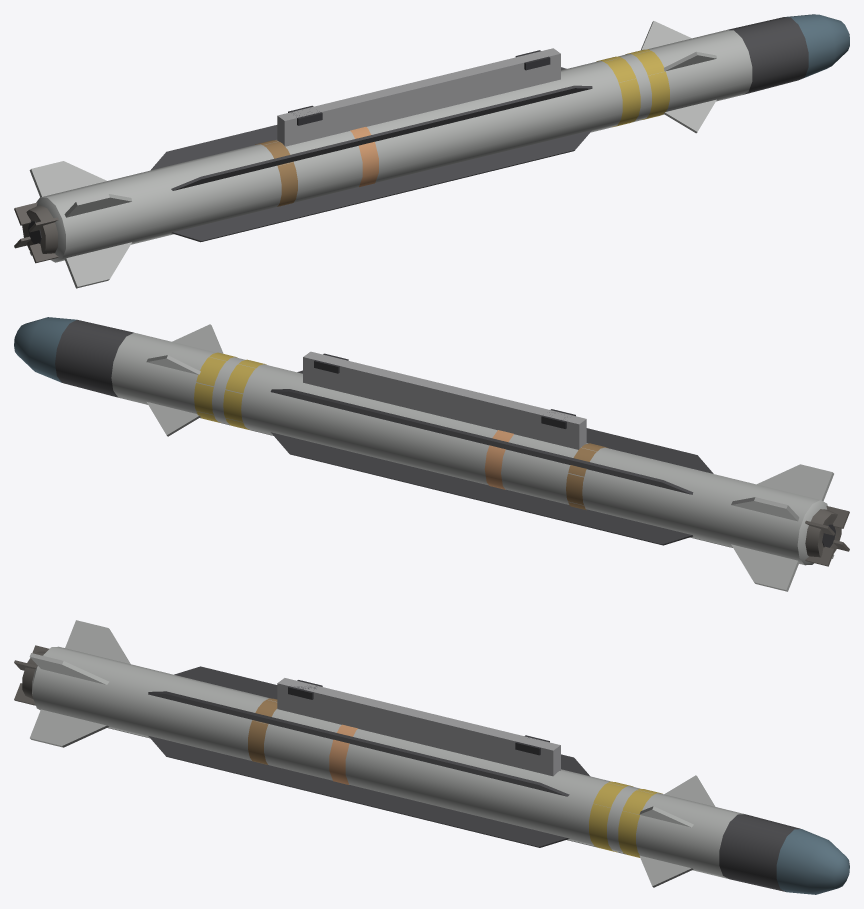
Rendered from srm_3.glb.
3 views of the same model, one above another, from view 1: azimuth 30°, elevation 25°; view 2: azimuth 150°, elevation 25°; view 3: azimuth 330°, elevation 25° (orthographic).
Visible parts, largest first — view 1: srm_3; view 2: srm_3; view 3: srm_3.
Boxes of the visible parts, bbox=[...] form: srm_3: bbox=[14, 14, 849, 288]; srm_3: bbox=[14, 317, 849, 591]; srm_3: bbox=[14, 620, 849, 894].
Bounding box in the file's own units: 1.01 × 0.1157 × 0.1022.
